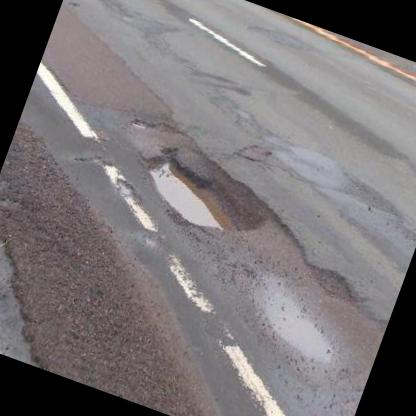pothole: (126, 133, 280, 252), (302, 260, 362, 308), (127, 112, 156, 134)
